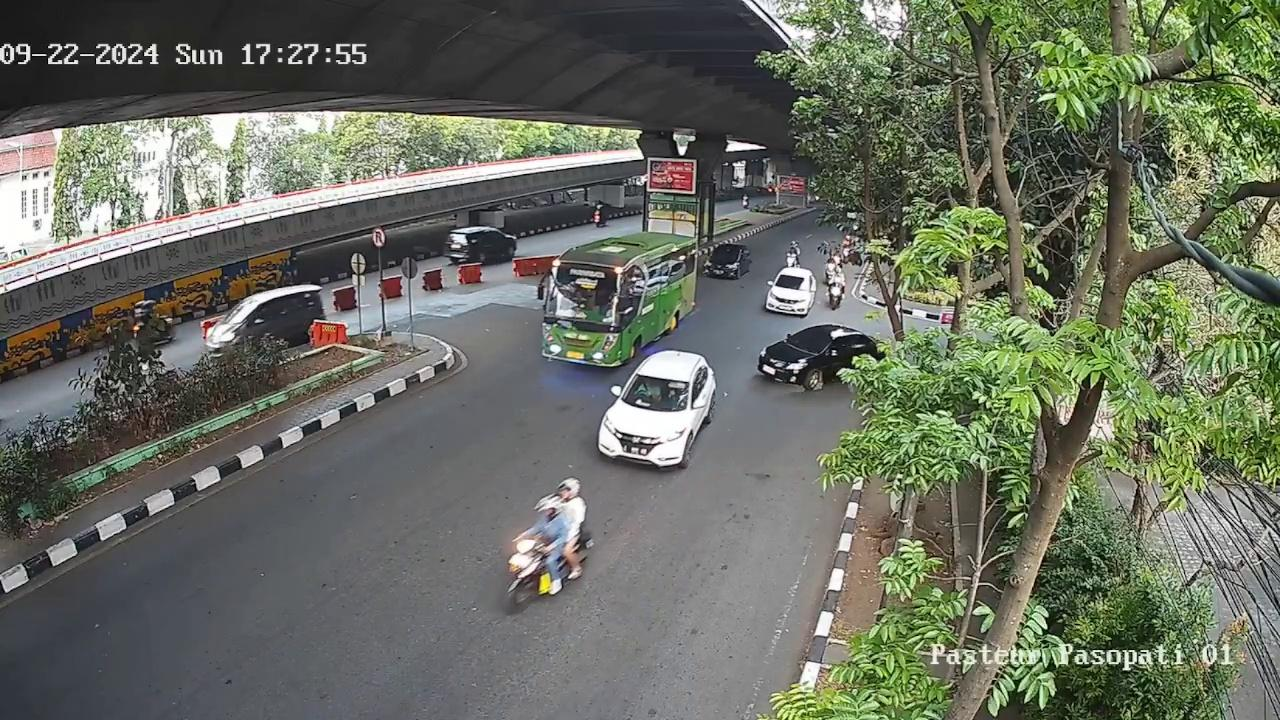pakai: (637, 381, 663, 402)
windshield: (623, 374, 695, 411), (777, 273, 810, 293)
